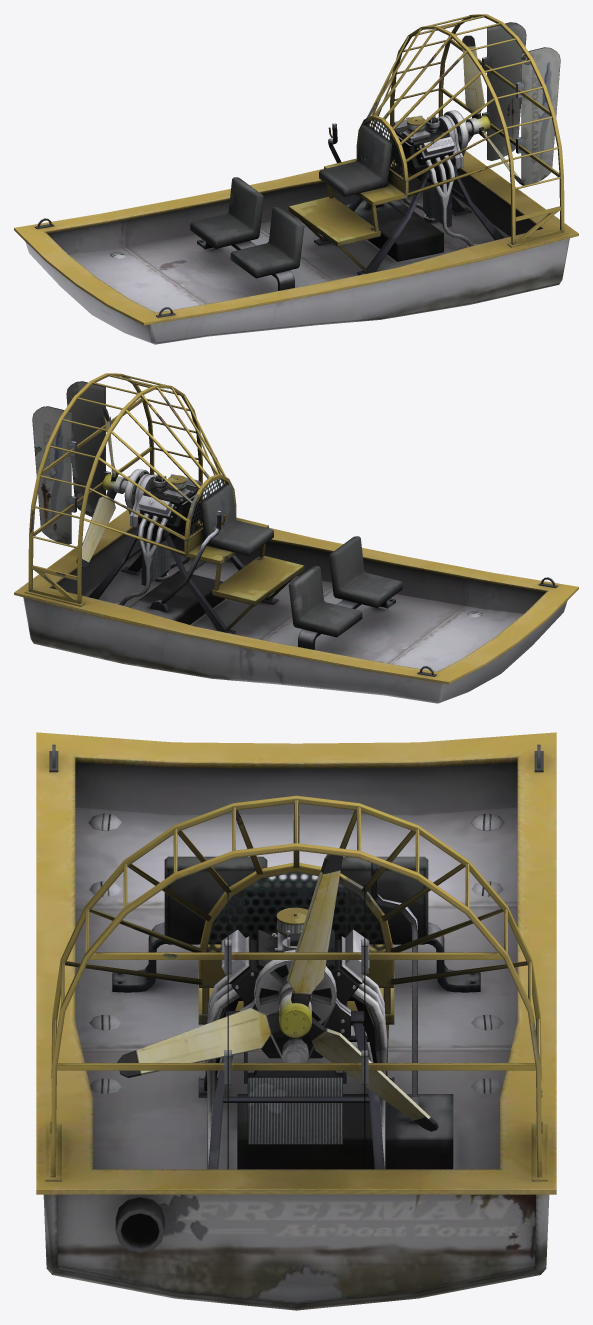
The picture shows the model from 3 angles, top to bottom: view 1: azimuth 30°, elevation 25°; view 2: azimuth 150°, elevation 25°; view 3: azimuth 270°, elevation 25°; orthographic projection. The views are drawn at different scales.
Visible parts, largest first — view 1: body0_model0_lod0_mesh1, body0_model0_lod0_mesh2, body0_model0_lod0_mesh0, body0_model0_lod0_mesh3; view 2: body0_model0_lod0_mesh1, body0_model0_lod0_mesh2, body0_model0_lod0_mesh0, body0_model0_lod0_mesh3; view 3: body0_model0_lod0_mesh1, body0_model0_lod0_mesh2, body0_model0_lod0_mesh0, body0_model0_lod0_mesh3.
Part boxes in pixels (bbox=[...]): body0_model0_lod0_mesh1: bbox=[14, 150, 578, 344]; body0_model0_lod0_mesh2: bbox=[190, 14, 568, 290]; body0_model0_lod0_mesh0: bbox=[314, 35, 524, 275]; body0_model0_lod0_mesh3: bbox=[366, 120, 403, 177]; body0_model0_lod0_mesh1: bbox=[14, 509, 578, 703]; body0_model0_lod0_mesh2: bbox=[24, 373, 402, 649]; body0_model0_lod0_mesh0: bbox=[76, 407, 278, 634]; body0_model0_lod0_mesh3: bbox=[189, 479, 226, 536]; body0_model0_lod0_mesh1: bbox=[36, 732, 556, 1310]; body0_model0_lod0_mesh2: bbox=[45, 795, 547, 1181]; body0_model0_lod0_mesh0: bbox=[117, 854, 438, 1169]; body0_model0_lod0_mesh3: bbox=[207, 872, 385, 952].
Bounding box in the file's own units: 395 × 189 × 190.
Materials: 4 (4 with a texture image).
